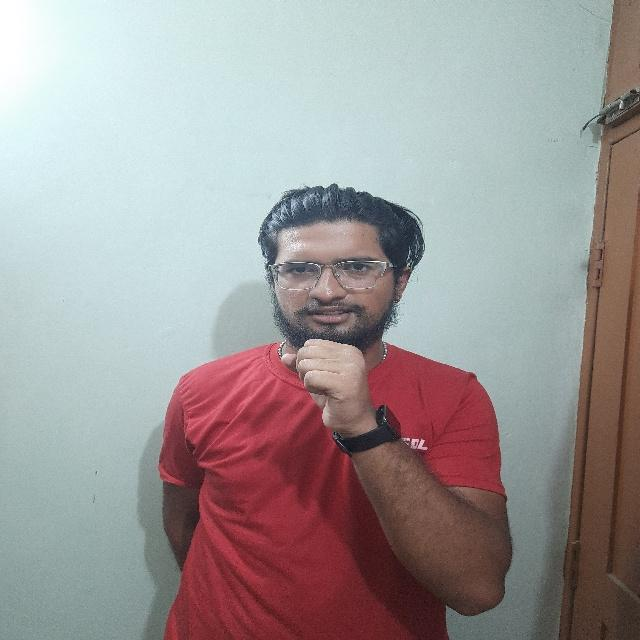Fist Mouth: (254, 187, 417, 437)
